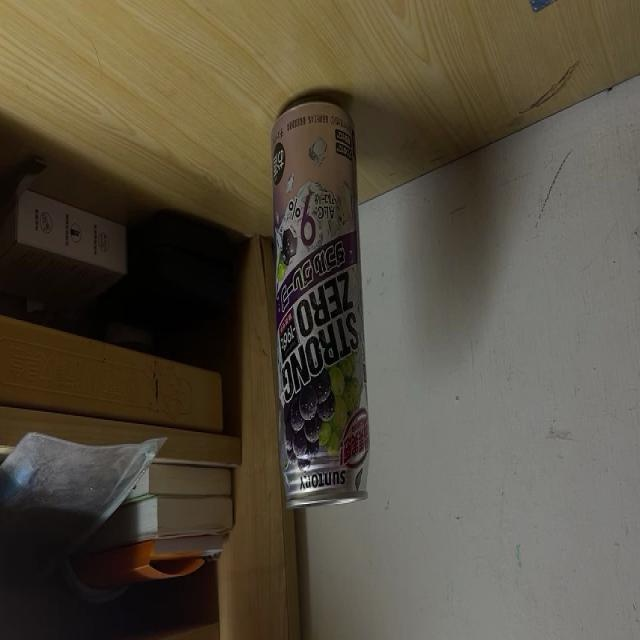Liquor: (273, 95, 370, 511)
